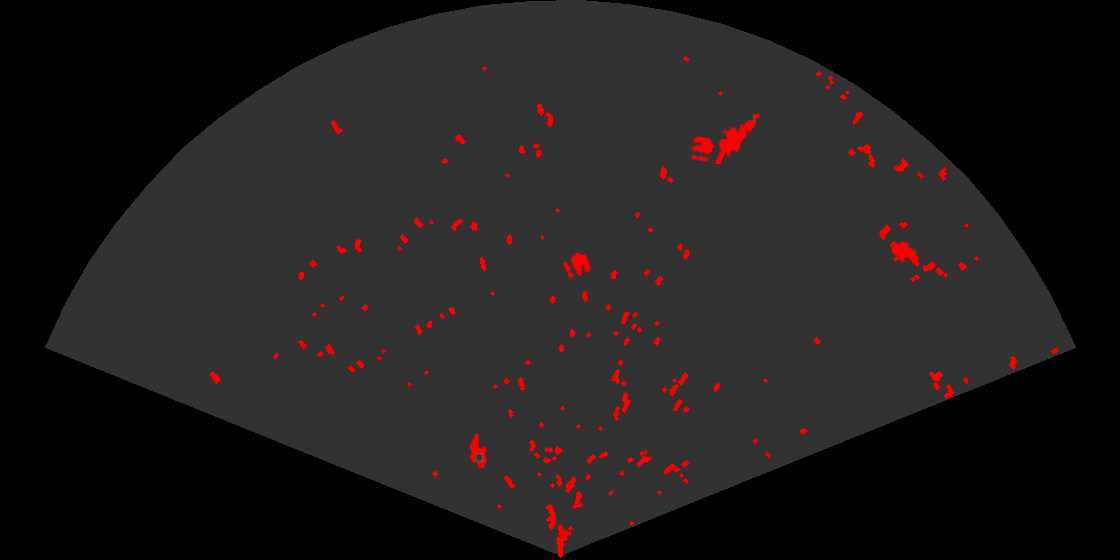AUV: (888, 239, 921, 268), (468, 432, 489, 470)
ball: (561, 250, 593, 280), (689, 135, 716, 164)
frogman: (713, 104, 762, 164)
